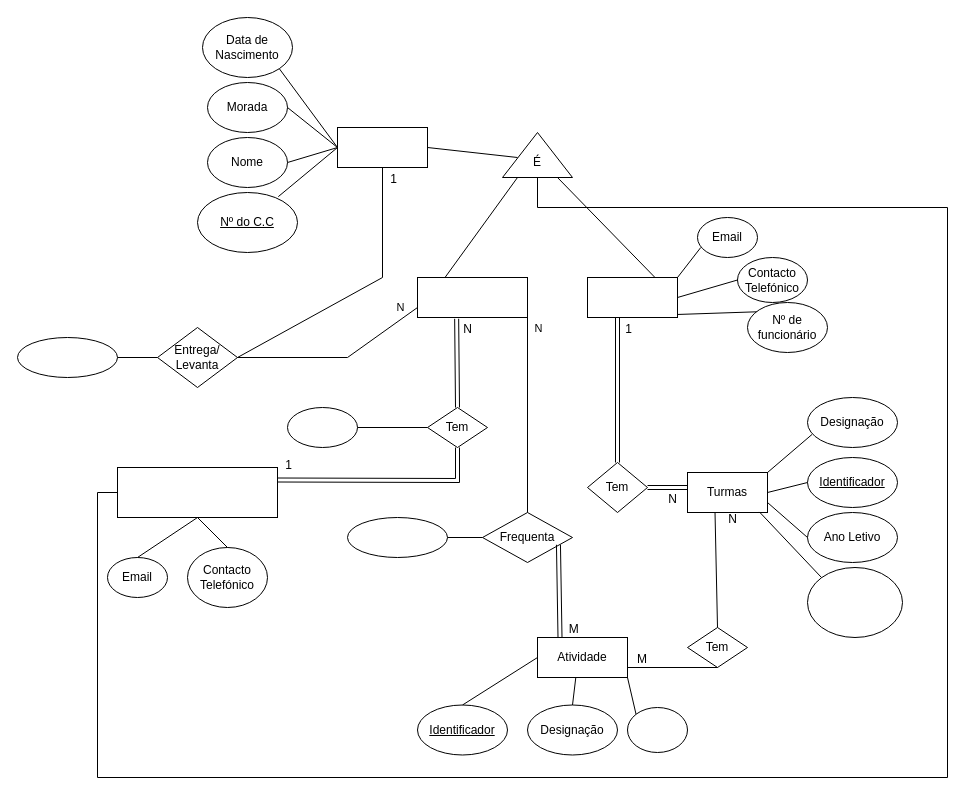
This 966x796 diagram has some shape labels left out. Each missing label, with the box of its shape:
Aluno: (416, 276, 528, 318)
Autorizado: (16, 336, 118, 378)
Custo: (626, 706, 688, 752)
Encarregado de Educação: (116, 466, 278, 518)
Nº Máximo de Alunos: (806, 566, 902, 638)
Pessoa: (336, 126, 428, 168)
Professor: (586, 276, 678, 318)
Relação: (286, 406, 358, 448)
Tem turma: (346, 516, 448, 558)
